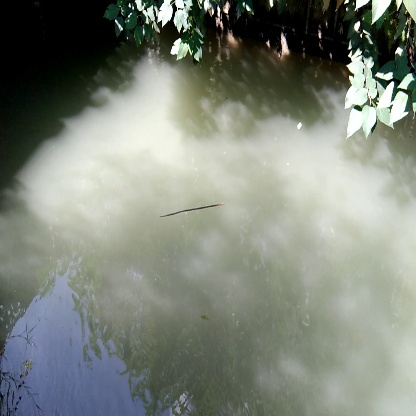branch: (160, 186, 244, 237)
